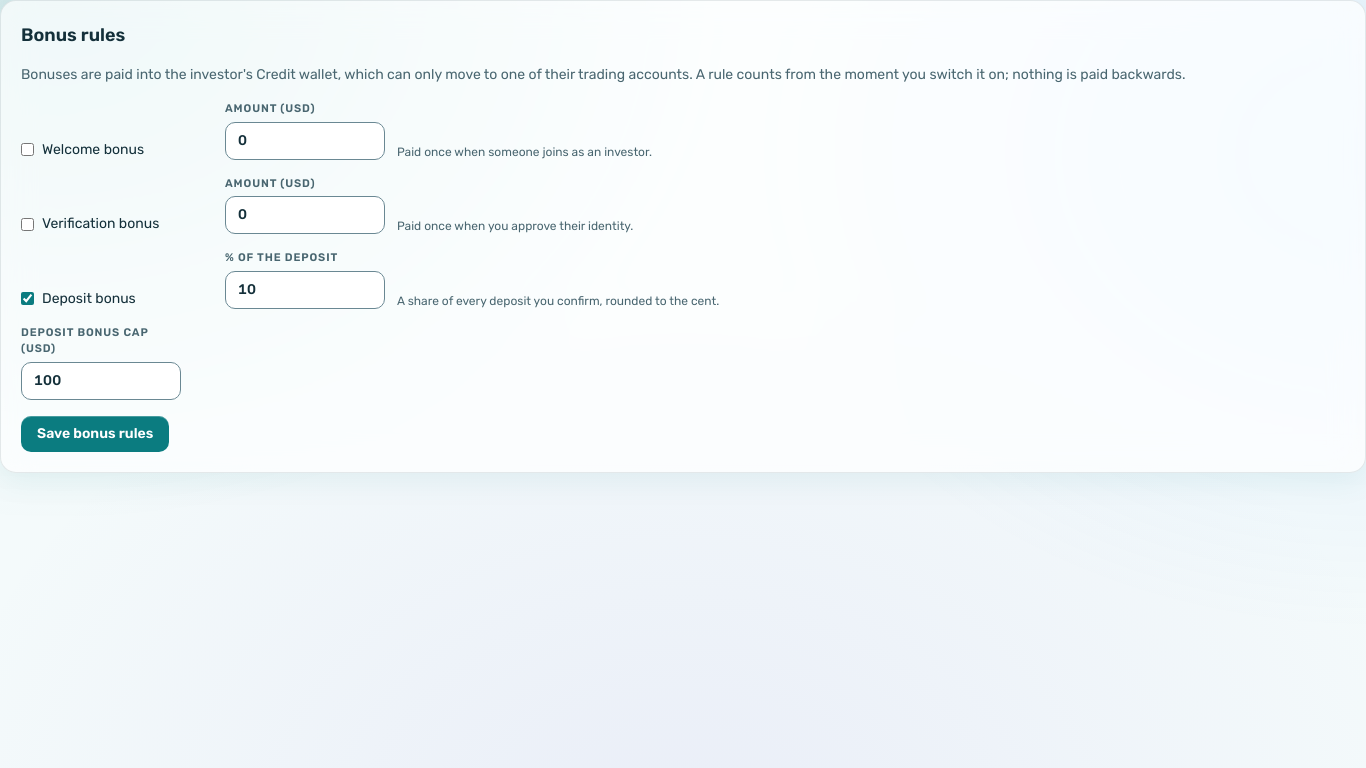
Test case: loads the rules and saves them as typed
Expected: the checkbox named "Deposit bonus on" is checked, [21,292,34,305]
Expected: the field named "Deposit bonus %" holds "10", [225,270,385,308]
Click the checkbox named "Welcome bonus on" at (28, 150), box [21,143,34,156]
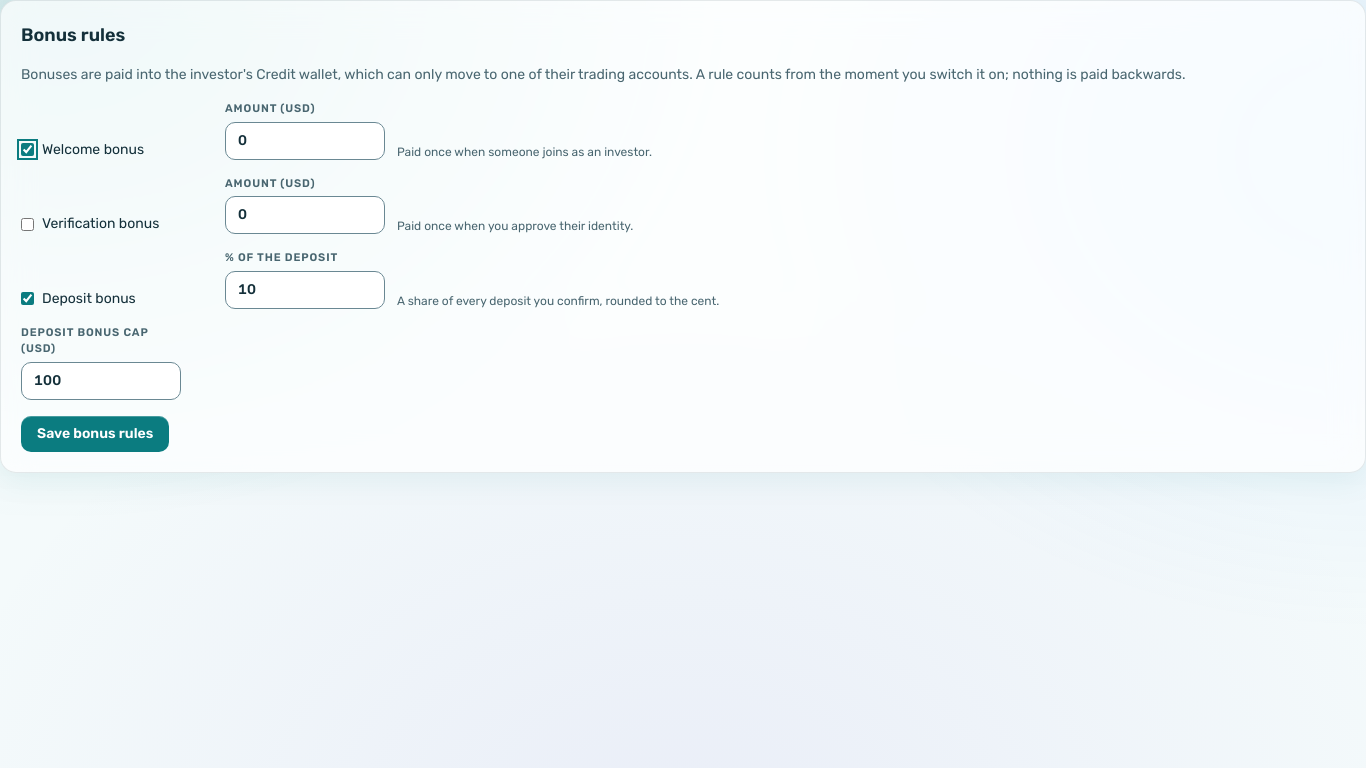
Replace the text in the field named "Welcome bonus amount" with "50" at (305, 140), box [225,122,385,160]
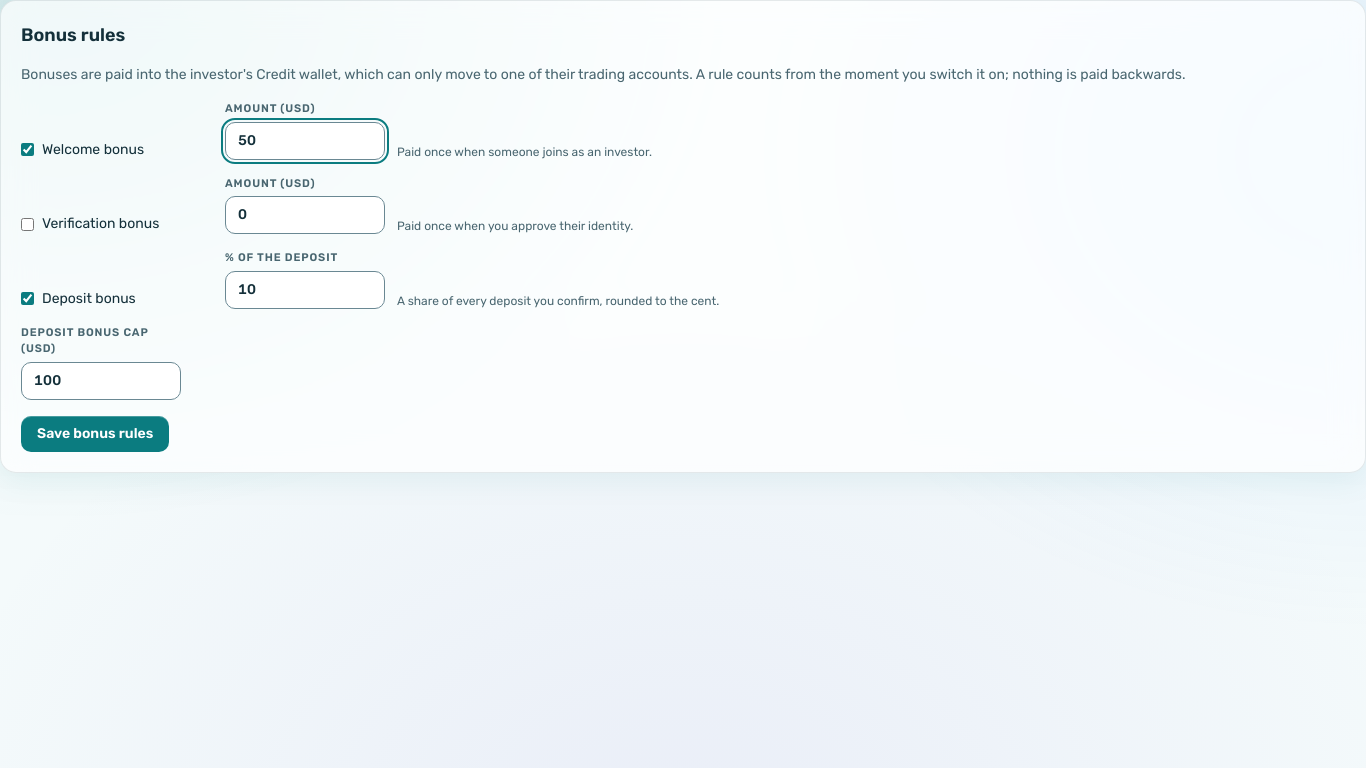
Clear the field labelled "Deposit bonus cap" at (101, 380), box [21,362,181,400]
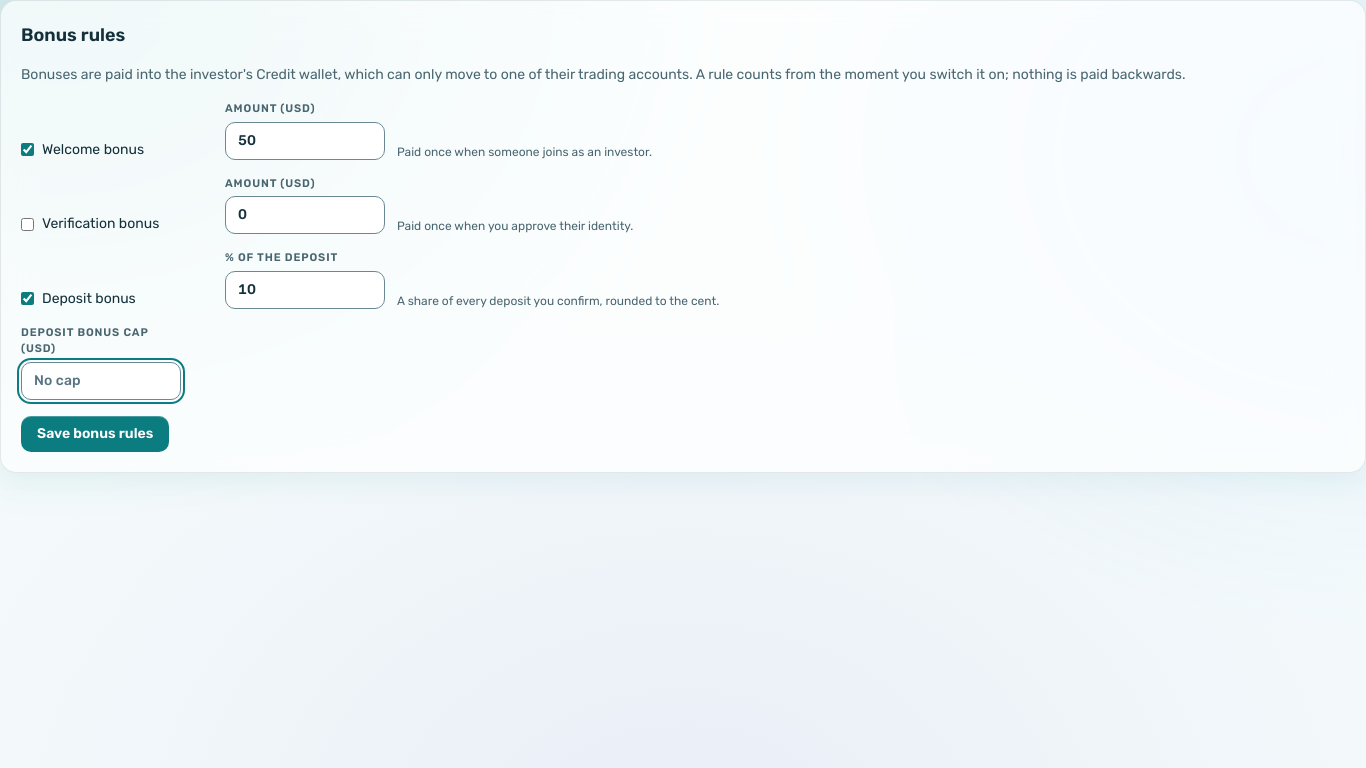
Click the button "Save bonus rules" at (95, 434), box [21,416,169,452]
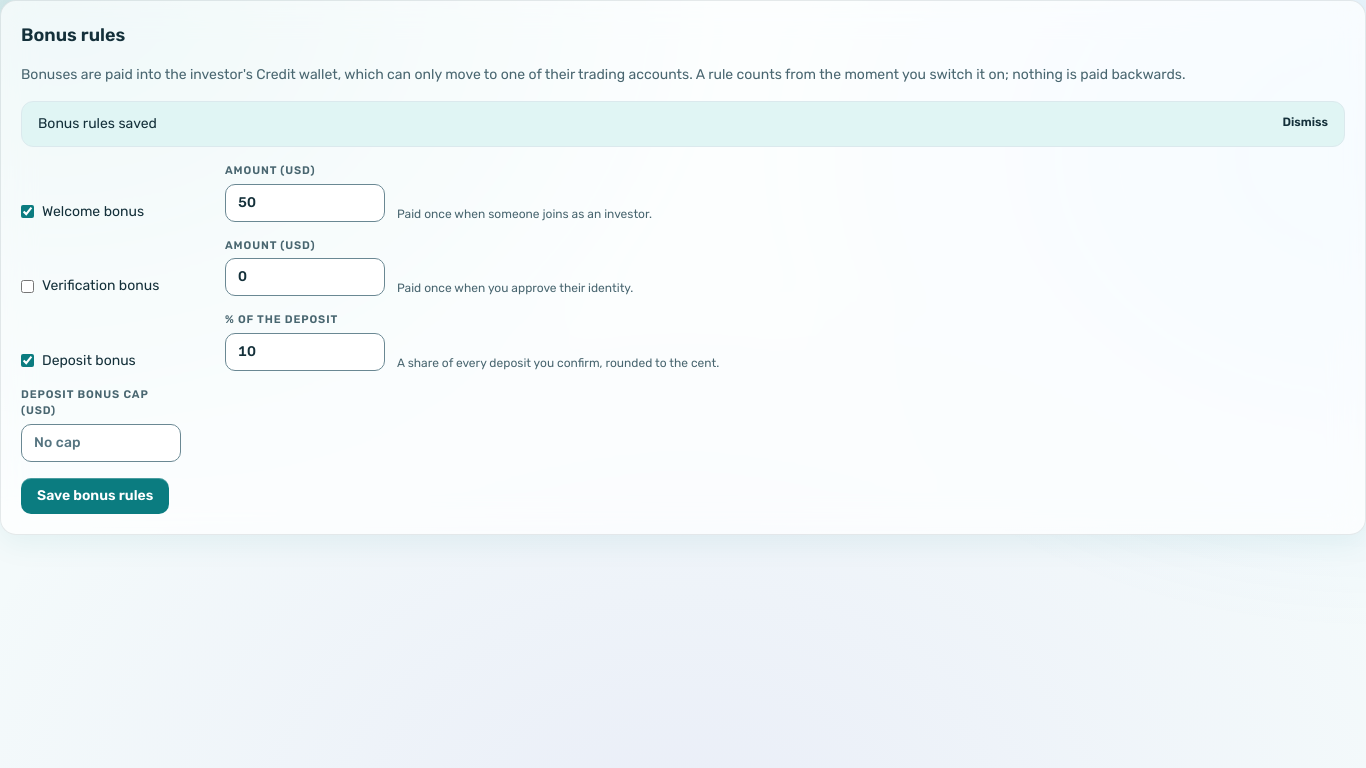
Expected: the text "Bonus rules saved" is shown, [38,114,157,134]
